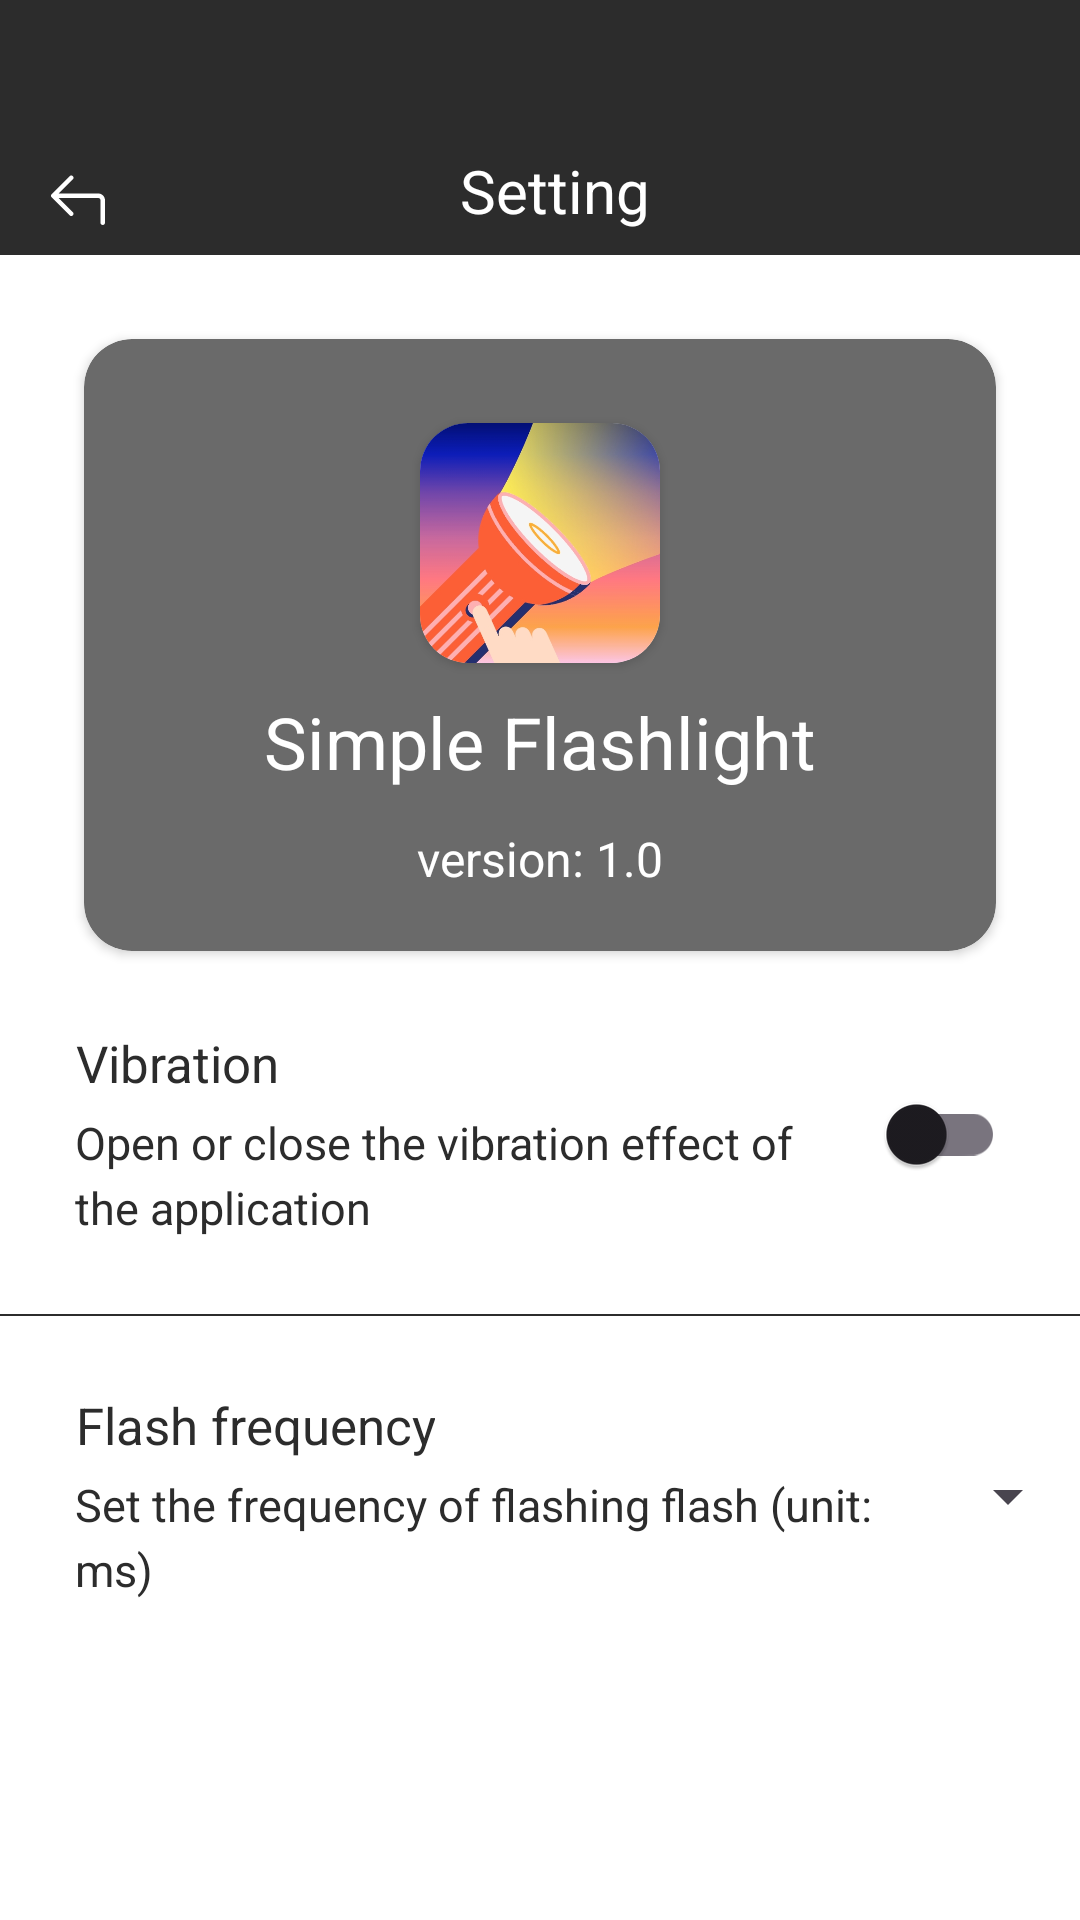

Named icons in this screenshot (1080px x 1920px) and their centers, point (x, y):
back: point (78, 200)
